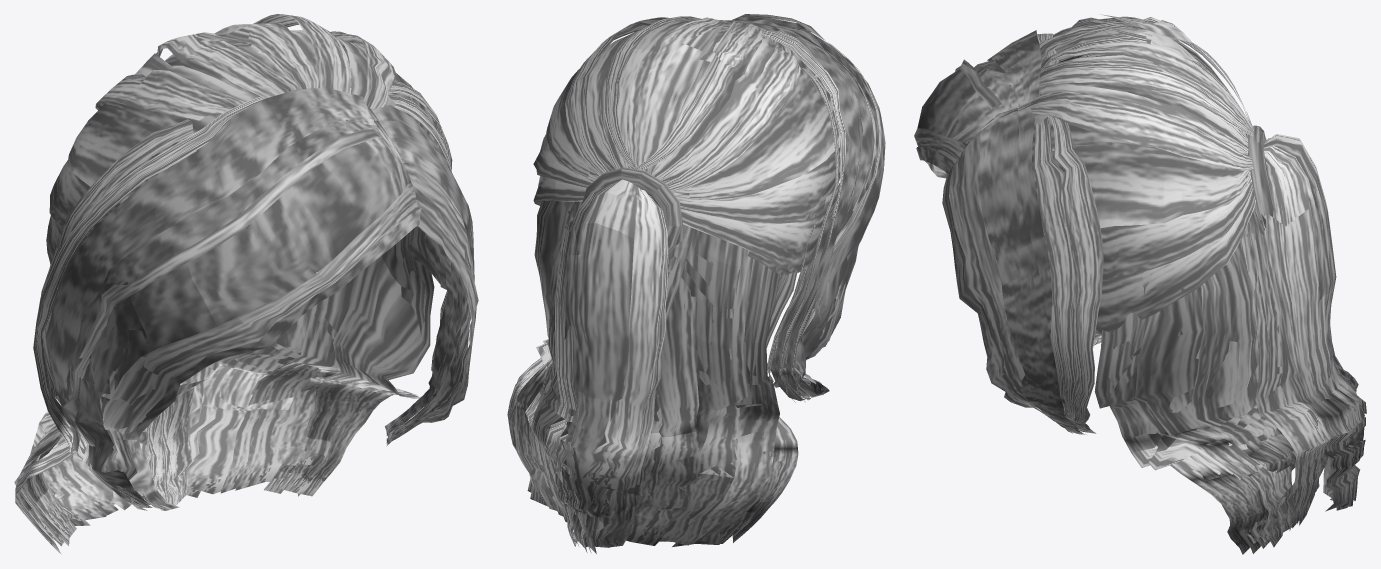
File: daz_hair_low_chignon.glb
The picture shows the model from 3 angles, left to right: view 1: azimuth 30°, elevation 25°; view 2: azimuth 150°, elevation 25°; view 3: azimuth 270°, elevation 25°; orthographic projection. The views are drawn at different scales.
Visible parts, largest first — view 1: daz_hair_low_chignon; view 2: daz_hair_low_chignon; view 3: daz_hair_low_chignon.
Part boxes in pixels (x1=…): daz_hair_low_chignon: x1=14, y1=14, x2=478, y2=554; daz_hair_low_chignon: x1=507, y1=14, x2=885, y2=553; daz_hair_low_chignon: x1=914, y1=14, x2=1366, y2=554.
Bounding box in the file's own units: 0.1802 × 0.2658 × 0.2275.
1 material, 1 textured.
